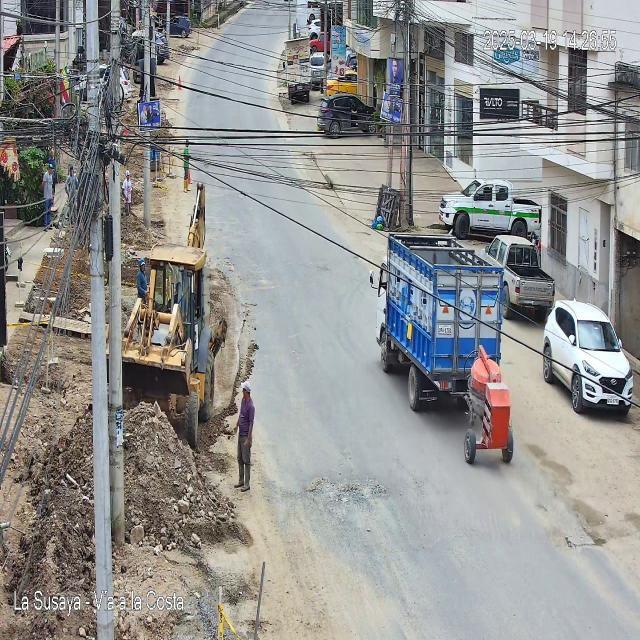CMT: (441, 181, 541, 243)
SUV: (540, 297, 634, 416)
TRUCK: (104, 171, 229, 438), (375, 236, 507, 410)
